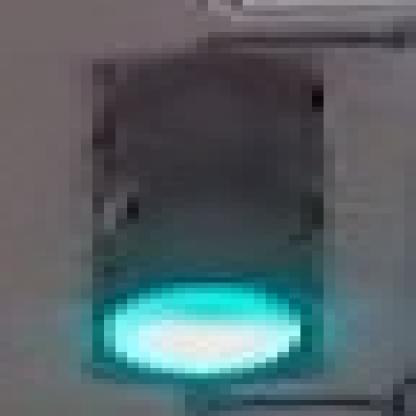Green Light: (74, 53, 335, 386)
